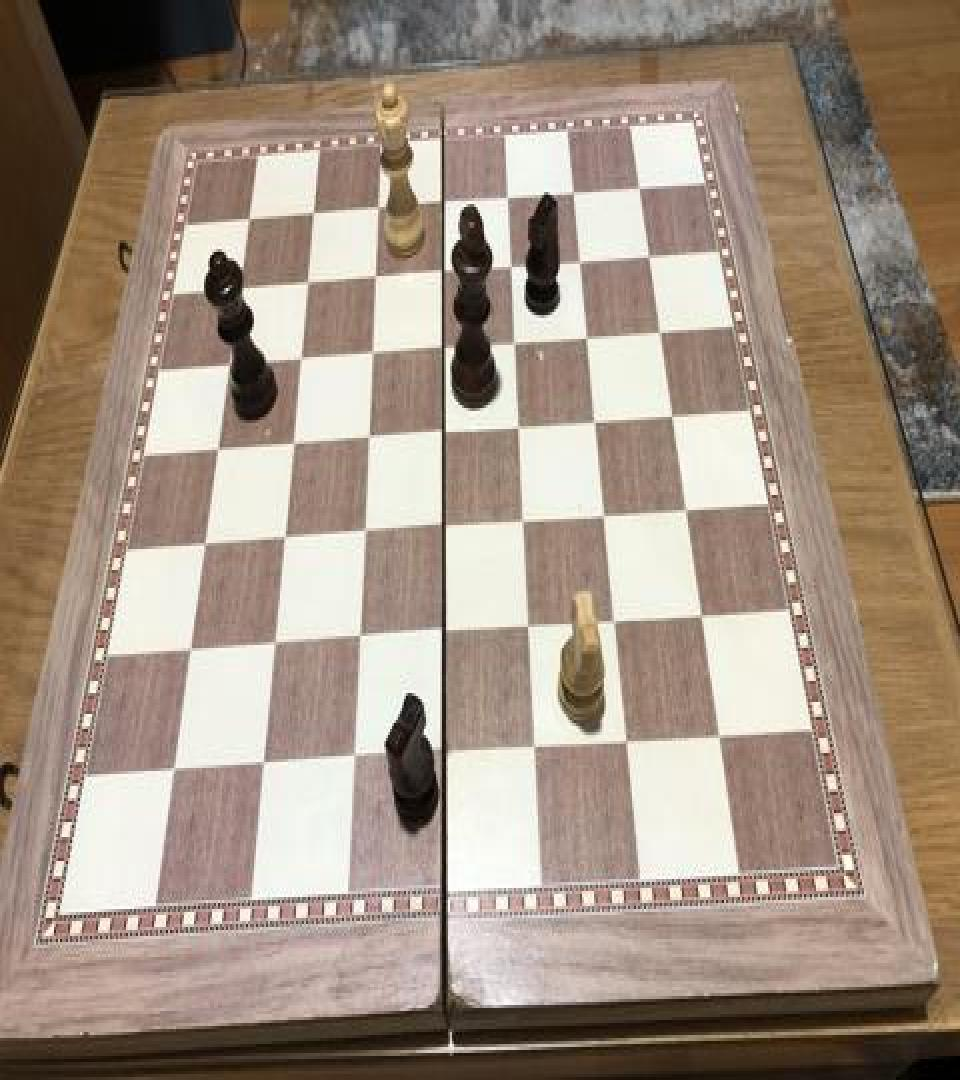xcorner: (349, 514, 373, 551), (270, 520, 294, 557), (515, 610, 539, 647), (429, 616, 453, 653), (345, 622, 369, 659), (614, 727, 638, 764), (249, 748, 273, 785), (161, 754, 185, 791), (623, 168, 647, 204), (557, 174, 581, 210), (492, 180, 516, 216), (428, 186, 452, 222), (364, 192, 388, 228), (300, 198, 324, 234), (237, 204, 261, 240), (633, 236, 657, 272), (564, 243, 588, 279), (496, 249, 520, 285), (428, 255, 452, 291), (361, 261, 385, 297), (294, 267, 318, 303), (228, 273, 252, 309), (645, 312, 669, 348), (572, 318, 596, 354), (500, 324, 524, 360), (428, 330, 452, 366), (357, 336, 381, 372), (287, 342, 311, 378), (217, 348, 241, 384), (658, 396, 682, 432), (581, 402, 605, 438), (504, 408, 528, 444), (429, 414, 453, 450), (354, 420, 378, 456), (279, 426, 303, 462), (206, 432, 230, 468), (672, 490, 696, 526), (591, 496, 615, 532), (509, 502, 533, 538), (429, 508, 453, 544), (192, 526, 216, 562), (689, 598, 713, 634), (602, 604, 626, 640), (261, 627, 285, 663), (177, 633, 201, 669), (708, 722, 732, 758), (521, 732, 545, 768), (430, 738, 454, 774), (339, 744, 363, 780)
